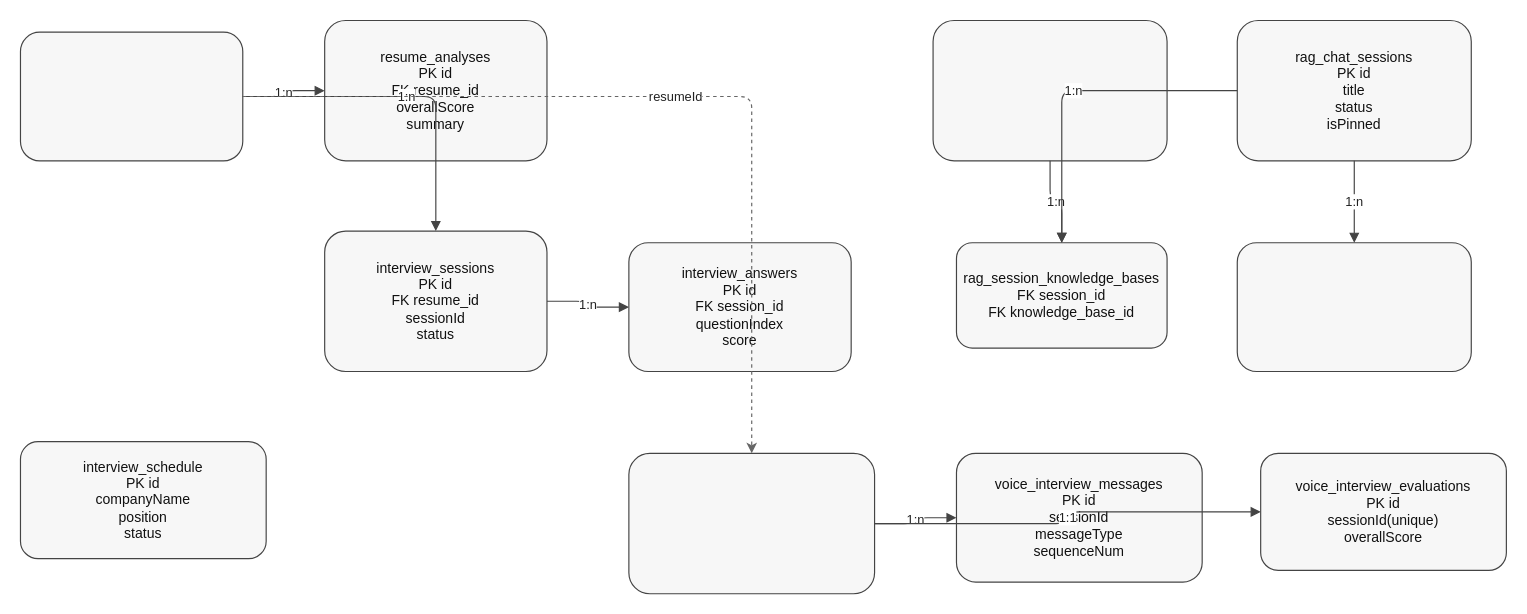
Image size: 1527x614. Some labels were removed from this diagram. The centre of each missing label's shape, as x and y in pixels:
"knowledge_bases PK id fileHash name vectorStatus" belongs at [1049,90].
"rag_chat_messages PK id FK session_id type messageOrder" belongs at [1353,306].
"resumes PK id fileHash originalFilename analyzeStatus" belongs at [131,96].
"voice_interview_sessions PK id resumeId status evaluateStatus" belongs at [751,523].
